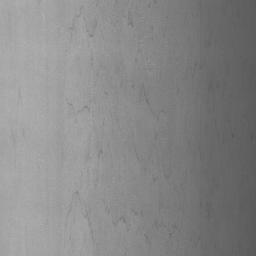Silk spot: (139, 83, 150, 105), (200, 201, 211, 220), (86, 19, 97, 37), (123, 11, 134, 28), (84, 208, 92, 227), (112, 216, 126, 226), (68, 20, 75, 39), (208, 80, 219, 92), (78, 105, 90, 113), (132, 209, 144, 217)
